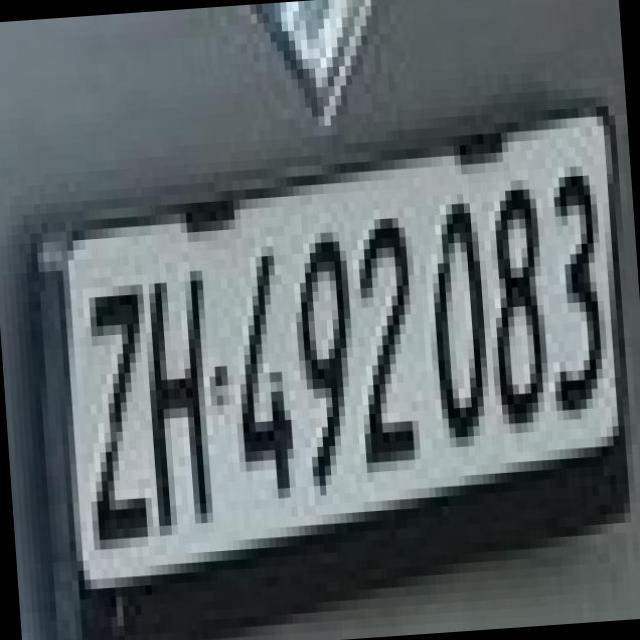0: (401, 173, 492, 439)
2: (335, 187, 427, 463)
3: (525, 136, 610, 402)
4: (210, 216, 296, 502)
8: (466, 160, 551, 426)
9: (270, 212, 362, 487)
H: (127, 242, 219, 526)
Z: (68, 255, 154, 540)
